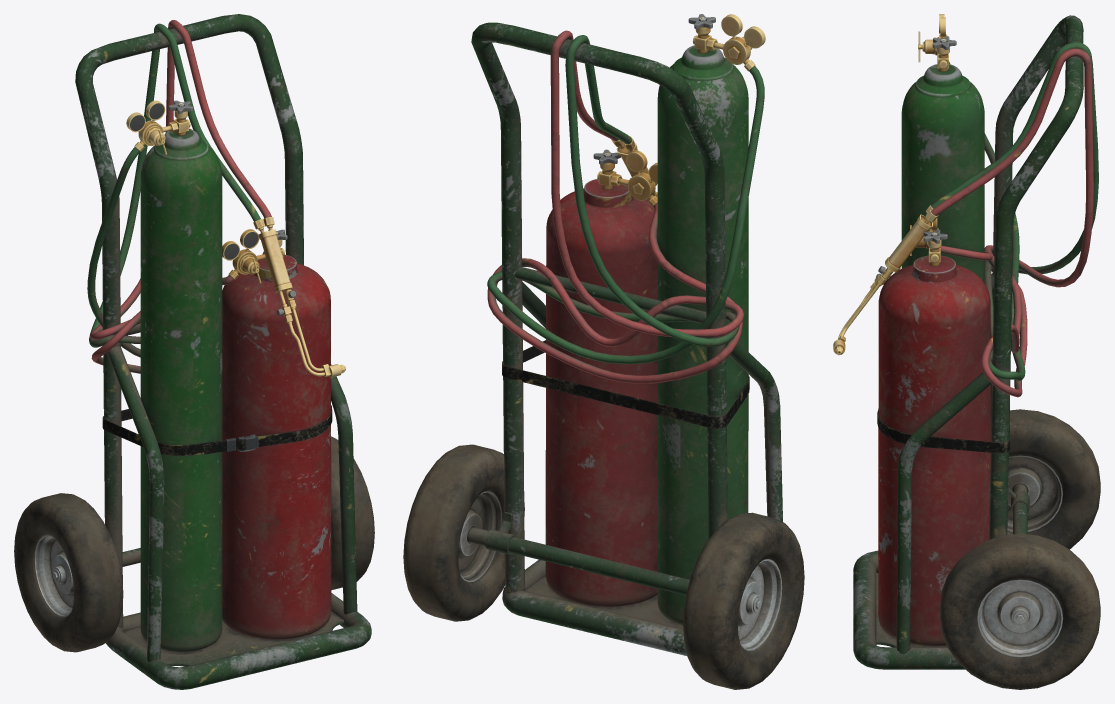
The picture shows the model from 3 angles, left to right: view 1: azimuth 30°, elevation 25°; view 2: azimuth 150°, elevation 25°; view 3: azimuth 270°, elevation 25°; orthographic projection. The views are drawn at different scales.
Parts seen in each view (by area): view 1: portable_welding_cart; view 2: portable_welding_cart; view 3: portable_welding_cart.
Part boxes in pixels (x1=…): portable_welding_cart: x1=14, y1=14, x2=374, y2=689; portable_welding_cart: x1=403, y1=14, x2=804, y2=689; portable_welding_cart: x1=833, y1=14, x2=1100, y2=689.
Bounding box in the file's own units: 0.8383 × 1.56 × 0.6549.
Materials: 2 (2 with a texture image).
